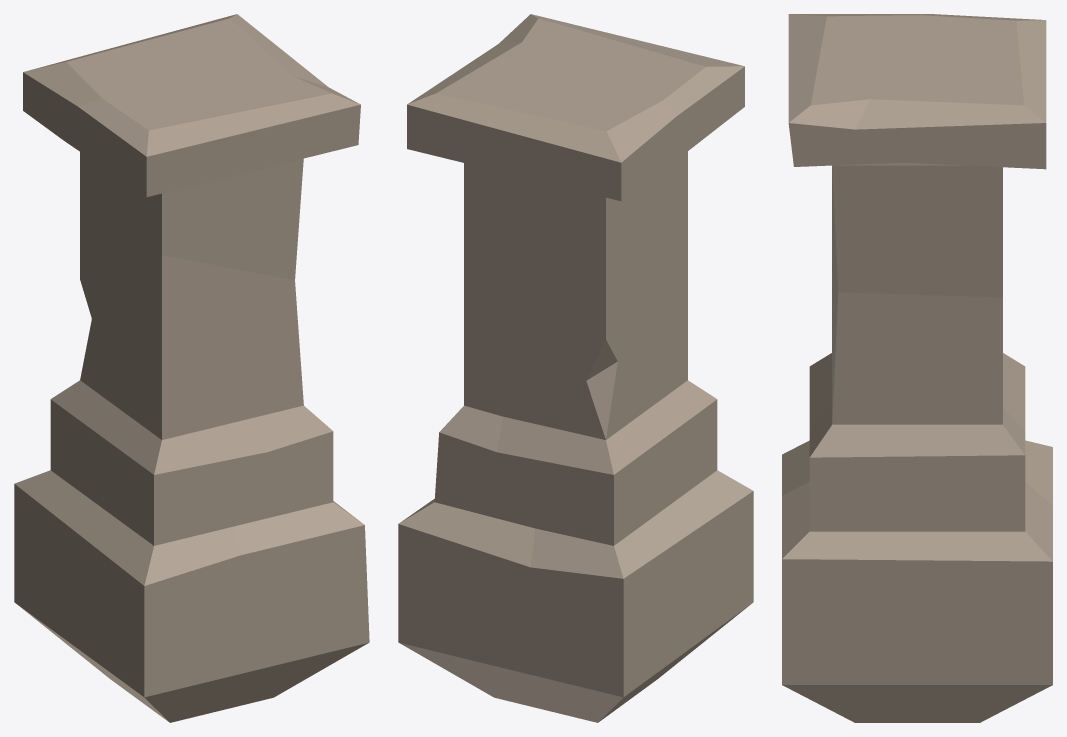
File: SM_Bld_Manor_Railing_02_Pillar_01.fbx
3 renders of one model, left to right at view 1: azimuth 30°, elevation 25°; view 2: azimuth 150°, elevation 25°; view 3: azimuth 270°, elevation 25°, orthographic. The views are drawn at different scales.
Parts seen in each view (by area): view 1: SM_Bld_Manor_Railing_02_Pillar_01; view 2: SM_Bld_Manor_Railing_02_Pillar_01; view 3: SM_Bld_Manor_Railing_02_Pillar_01.
Boxes of the visible parts, <box> form: SM_Bld_Manor_Railing_02_Pillar_01: <box>14,14,369,722</box>; SM_Bld_Manor_Railing_02_Pillar_01: <box>398,14,753,722</box>; SM_Bld_Manor_Railing_02_Pillar_01: <box>782,14,1052,722</box>.
Bounding box in the file's own units: 50.78 × 132 × 50.78.
